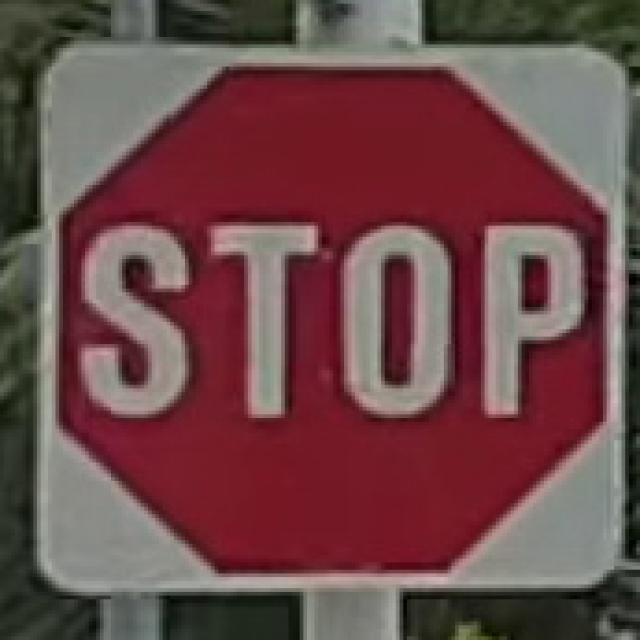mandatorystop_sign: (30, 37, 632, 596)
